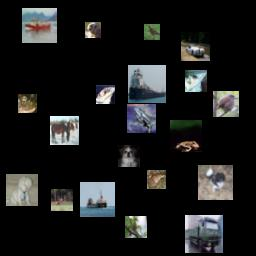airplane: (127, 104, 156, 133)
automobile: (181, 32, 210, 61)
bird: (213, 91, 239, 117), (125, 216, 147, 238), (144, 24, 160, 40)
deer: (51, 189, 73, 211)
dog: (198, 165, 233, 200), (6, 174, 38, 206), (118, 145, 140, 167), (85, 22, 101, 38)
frog: (170, 120, 202, 152), (147, 170, 166, 189), (18, 94, 37, 113)
ship: (128, 65, 166, 103), (22, 8, 57, 43), (80, 182, 115, 217), (185, 70, 207, 92), (96, 85, 115, 104)
truck: (185, 215, 223, 253)
